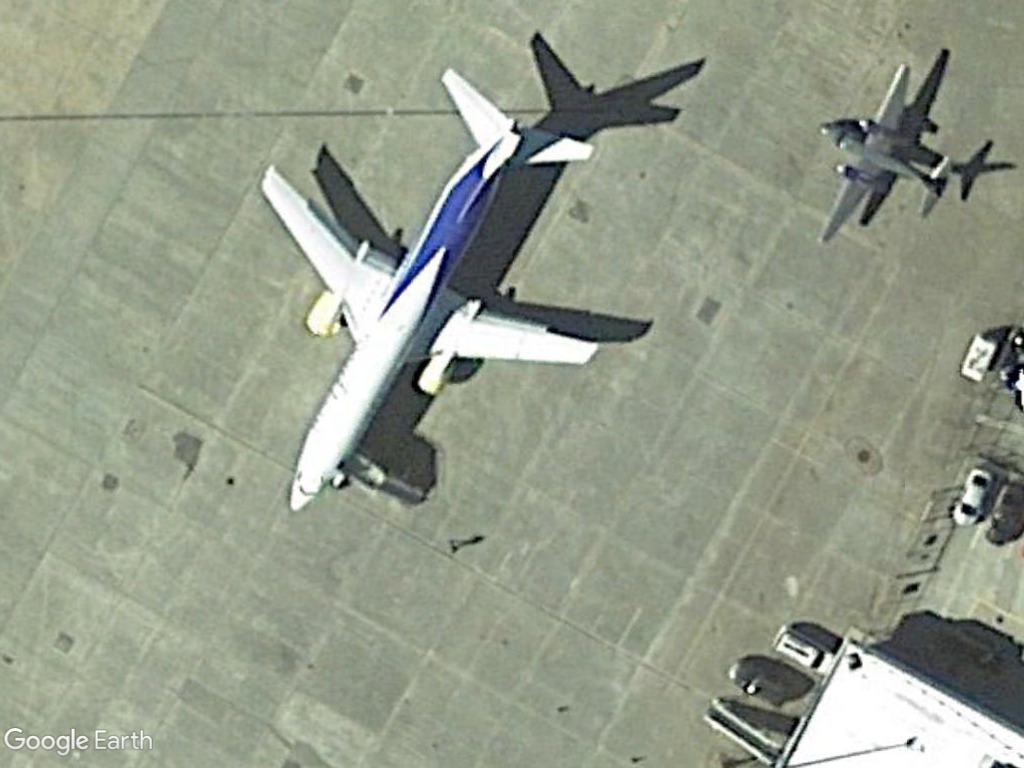airliner: (260, 73, 631, 528)
car: (946, 467, 994, 531)
propeller: (804, 55, 960, 254)
